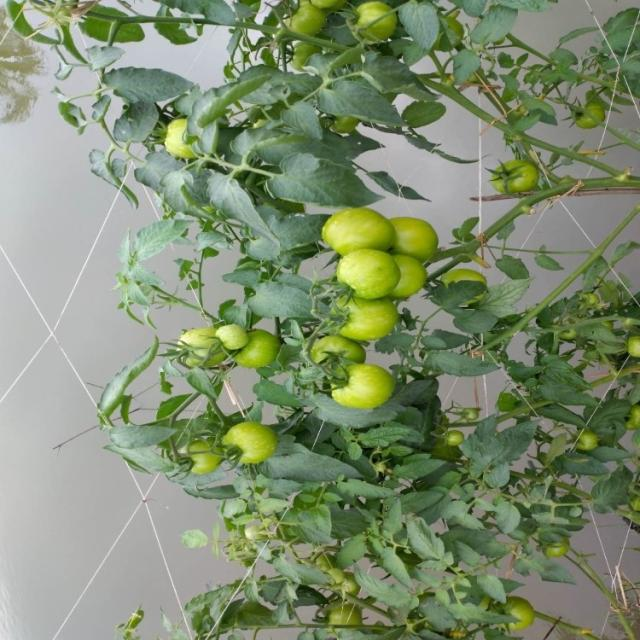tomato: (327, 277, 424, 355), (324, 345, 412, 414), (320, 202, 401, 272), (332, 244, 392, 301), (227, 409, 284, 469), (144, 113, 209, 164), (242, 314, 285, 378), (479, 153, 540, 197), (387, 207, 437, 258), (214, 311, 267, 356), (172, 433, 220, 482), (269, 1, 337, 32), (180, 328, 235, 366), (342, 1, 406, 33), (302, 329, 368, 360), (390, 237, 423, 296), (571, 92, 605, 145), (320, 556, 369, 587), (438, 270, 500, 293), (331, 594, 370, 628), (619, 329, 640, 384), (508, 590, 540, 623), (573, 429, 603, 463), (532, 536, 570, 562), (281, 39, 320, 64), (445, 425, 477, 454), (459, 409, 486, 434), (624, 394, 640, 436)
